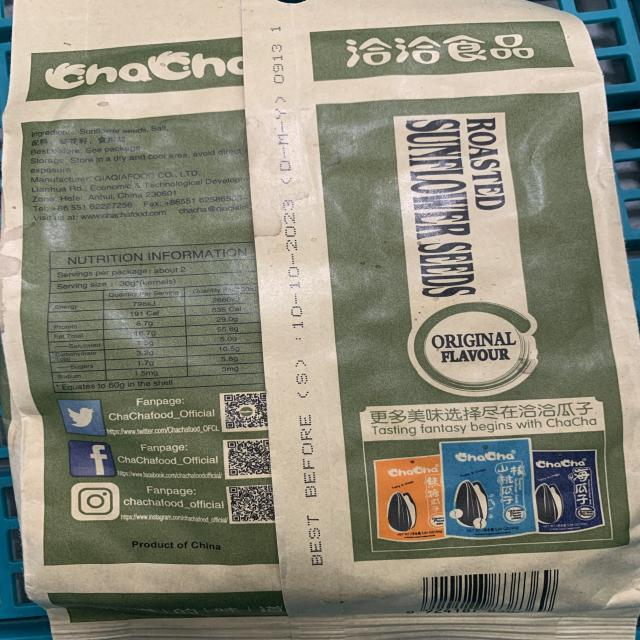object_name: (15, 5, 635, 640)
